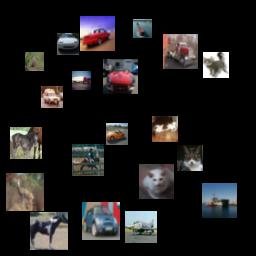airplane: (125, 211, 157, 243)
automobile: (82, 202, 120, 240), (80, 16, 115, 51), (103, 59, 138, 94), (106, 123, 128, 145), (41, 86, 63, 108), (57, 33, 79, 55)
bird: (25, 52, 44, 71)
cat: (139, 164, 174, 199), (203, 52, 229, 78), (177, 145, 203, 171), (152, 116, 178, 142)
deer: (6, 173, 44, 211)
ship: (202, 183, 237, 218), (133, 19, 152, 38)
truck: (163, 34, 198, 69), (72, 71, 91, 90)
